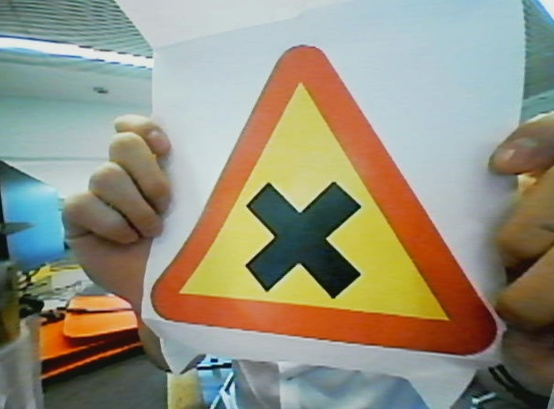junction: (161, 51, 492, 355)
